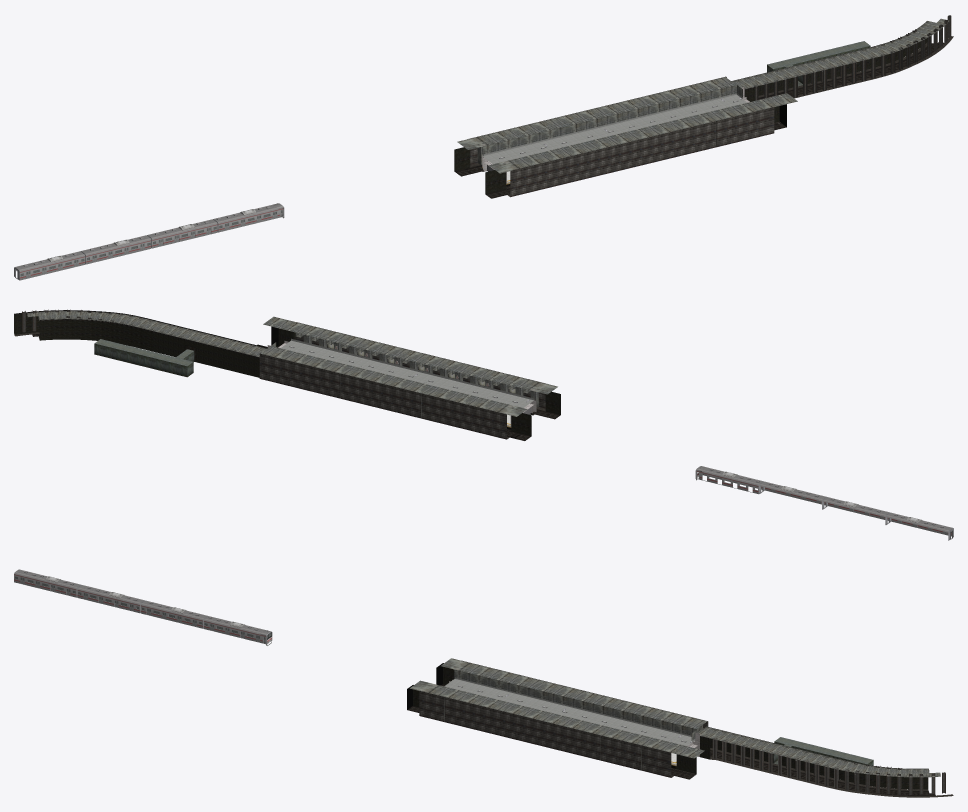
File: TheSubway.glb
3 renders of one model, top to bottom at view 1: azimuth 30°, elevation 25°; view 2: azimuth 150°, elevation 25°; view 3: azimuth 330°, elevation 25°, orthographic. The views are drawn at different scales.
Parts seen in each view (by area): view 1: station.037, station.022, Train, station.003, station.015, station.020, station.038, station.035, station.006; view 2: station.037, station.022, station.020, station.003, Train, station.019, station.006; view 3: station.037, station.022, Train, station.003, station.020, station.015, station.038, station.035, station.006.
Part boxes in pixels (box(x1,y1,x2,y2)): station.037: box(457, 18, 949, 173); station.022: box(467, 76, 774, 196); Train: box(14, 203, 284, 280); station.003: box(482, 93, 746, 164); station.015: box(737, 15, 951, 100); station.020: box(454, 21, 927, 194); station.038: box(454, 42, 944, 198); station.035: box(470, 36, 953, 196); station.006: box(767, 41, 870, 69); station.037: box(27, 311, 557, 418); station.022: box(259, 322, 545, 439); station.020: box(14, 310, 560, 436); station.003: box(281, 338, 534, 407); Train: box(695, 466, 953, 540); station.019: box(94, 343, 194, 377); station.006: box(94, 339, 193, 366); station.037: box(410, 658, 940, 777); station.022: box(419, 660, 708, 777); Train: box(14, 569, 272, 645); station.003: box(444, 677, 695, 745); station.020: box(407, 663, 928, 789); station.015: box(712, 729, 945, 795); station.038: box(407, 684, 935, 795); station.035: box(671, 748, 953, 797); station.006: box(774, 737, 873, 764).
Size of what is drawn, in the model's own units: 735 by 21.39 by 80.61.
Materials: 39 (39 with a texture image).
